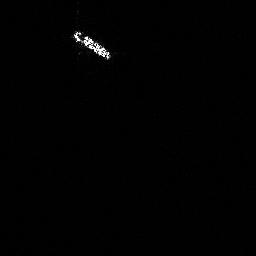ship: (69, 26, 114, 63)
